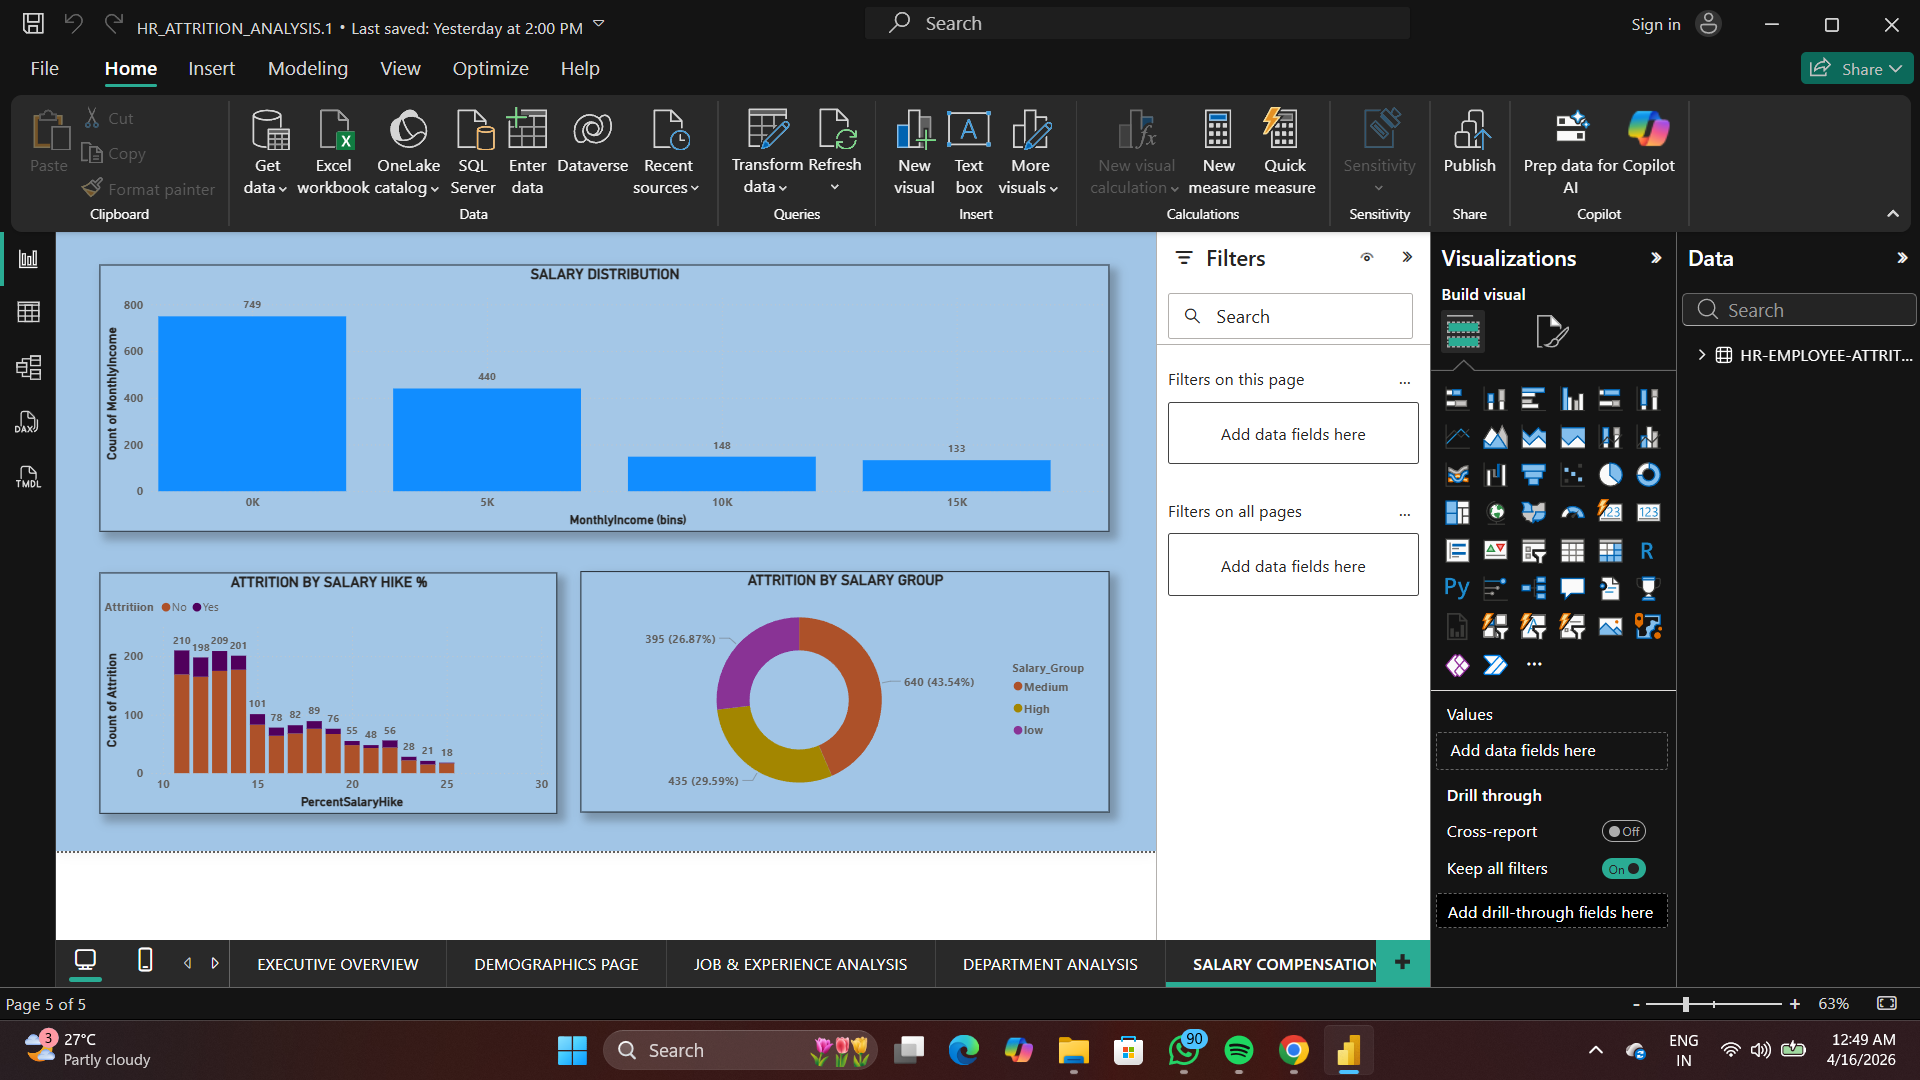

Layout of this report page (visuals, bound fields, positions):
{"tool":"powerbi","page":{"name":"SALARY COMPENSATION","canvas":[1280,720],"ordinal":4},"visuals":[{"type":"columnChart","title":"ATTRITION BY SALARY HIKE %","fields":{"Category":["HR-EMPLOYEE-ATTRITION.PercentSalaryHike"],"Series":["HR-EMPLOYEE-ATTRITION.Attrition"],"Y":["CountNonNull(HR-EMPLOYEE-ATTRITION.Attrition)"]},"box":[50.7,396.2,532.5,280.5],"z":0},{"type":"columnChart","title":"SALARY DISTRIBUTION","fields":{"Y":["CountNonNull(HR-EMPLOYEE-ATTRITION.MonthlyIncome)"],"Category":["HR-EMPLOYEE-ATTRITION.MonthlyIncome (bins)"]},"box":[50.4,38.6,1174.2,310.8],"z":1000},{"type":"donutChart","title":"ATTRITION BY SALARY GROUP","fields":{"Category":["HR-EMPLOYEE-ATTRITION.Salary_Group"],"Y":["CountNonNull(HR-EMPLOYEE-ATTRITION.Attrition)"]},"box":[609.8,394.8,614.8,280.5],"z":2000}]}

Visuals, with their boxes on the page's 1280x720 design canvas (x1, y1, x2, y2). These are canvas units, not pixel positions in the 1920x1080 screenshot, which may show the page scaled, cropped or inside an application window:
"ATTRITION BY SALARY HIKE %" columnChart: (left=51, top=396, right=583, bottom=677)
"SALARY DISTRIBUTION" columnChart: (left=50, top=39, right=1225, bottom=349)
"ATTRITION BY SALARY GROUP" donutChart: (left=610, top=395, right=1225, bottom=675)
